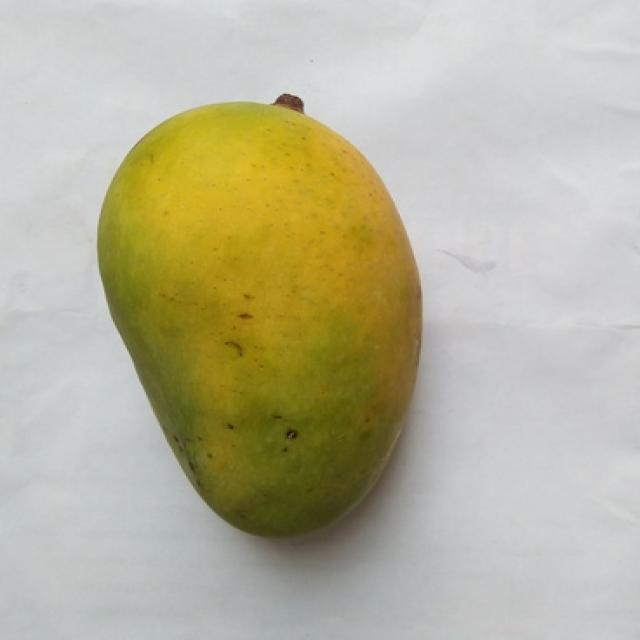Mango: (97, 104, 417, 535)
